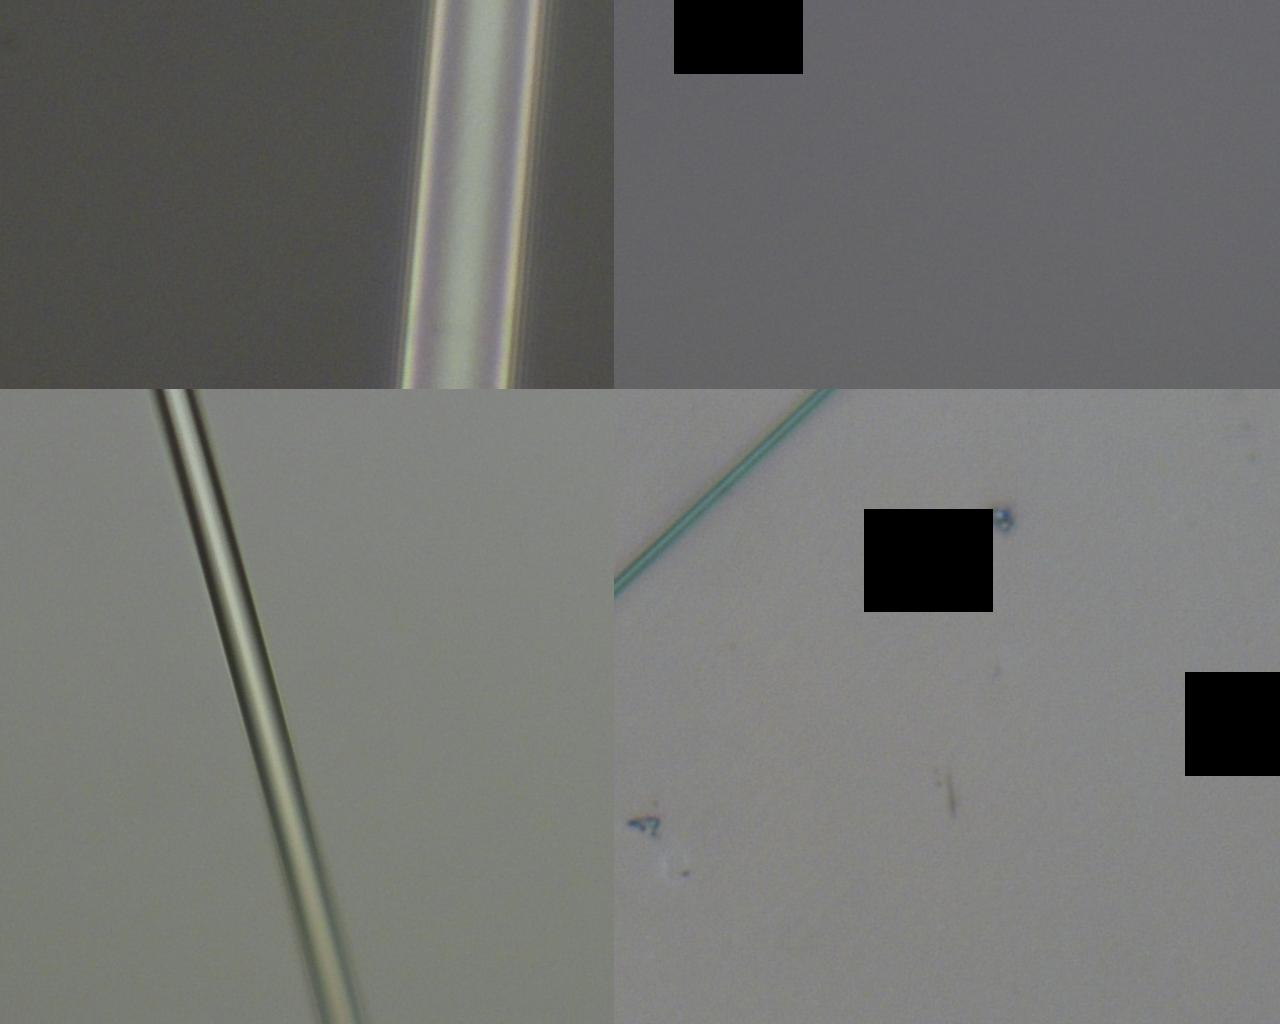fiber: (473, 491, 839, 1024), (526, 0, 1102, 211), (251, 0, 412, 491)
